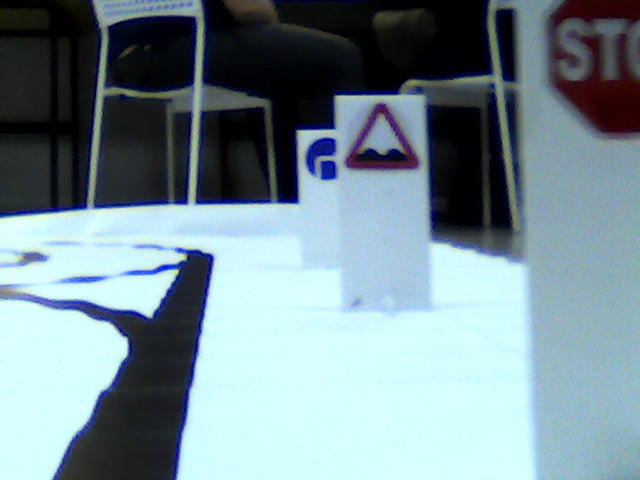Nerov: (344, 102, 420, 169)
Stop: (527, 3, 640, 143)
